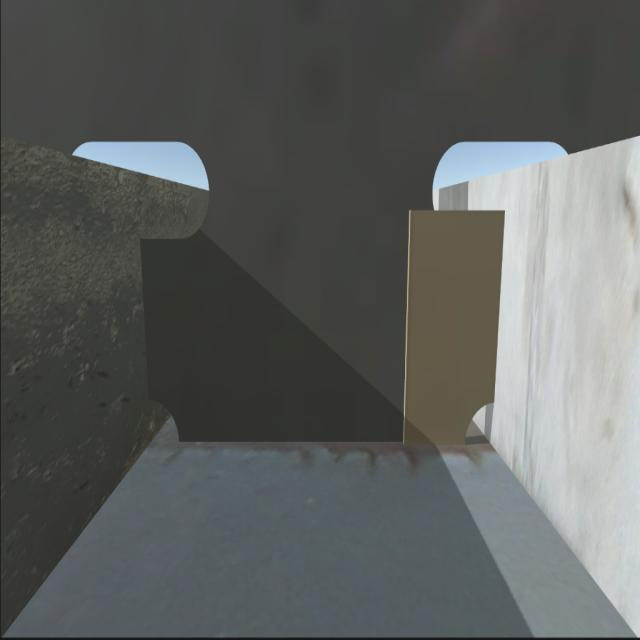fillet_hole: (144, 399, 185, 450), (462, 399, 495, 450)
fillet_yong_jeop_jang: (177, 431, 464, 449)
longi_yong_jeop_jang: (490, 210, 508, 401), (135, 244, 155, 390)
plate_CP01: (409, 207, 495, 442)
